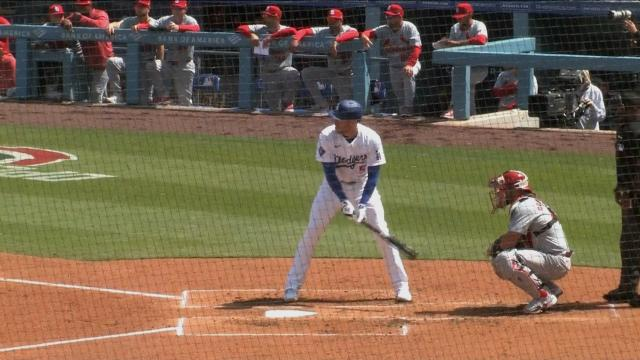bat: (361, 218, 419, 260)
